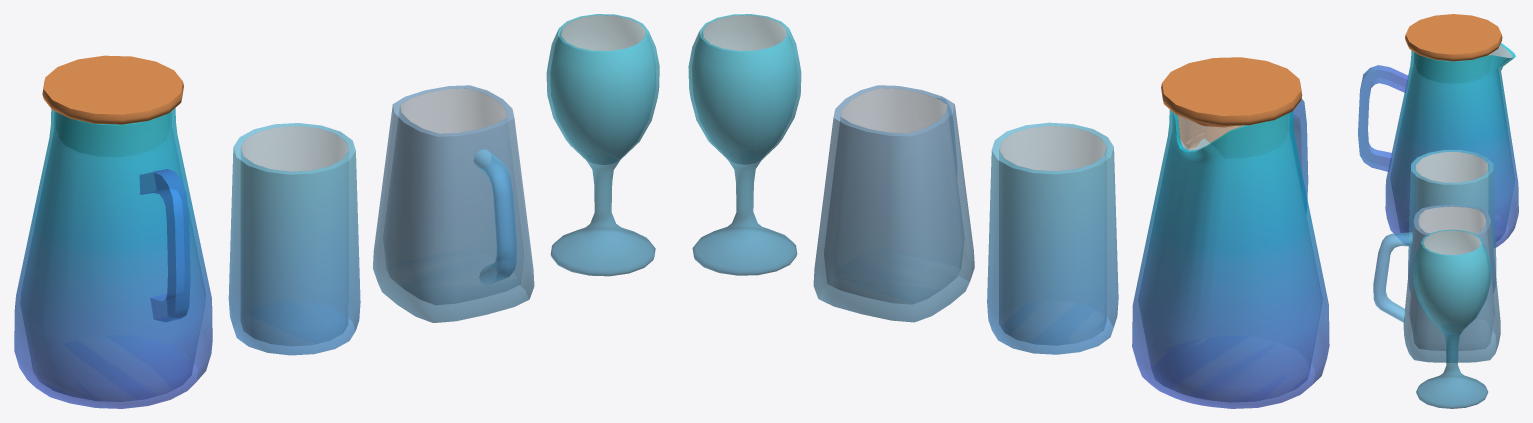
File: glasses.fbx
3 renders of one model, left to right at view 1: azimuth 30°, elevation 25°; view 2: azimuth 150°, elevation 25°; view 3: azimuth 270°, elevation 25°, orthographic. The views are drawn at different scales.
Parts seen in each view (by area): view 1: jug, glass_Beer, jug_Liquid, glass, glass_Liquid, glass_Goblet, glass_Beer_Liquid, glass_Goblet_Liquid, jug_Lid; view 2: jug, jug_Liquid, glass_Beer, glass, glass_Beer_Liquid, glass_Liquid, glass_Goblet, glass_Goblet_Liquid, jug_Lid; view 3: jug, jug_Liquid, glass_Beer, glass_Goblet, glass_Goblet_Liquid, glass, glass_Beer_Liquid, jug_Lid, glass_Liquid.
Boxes of the visible parts, x1,y1,x2,y2 form: jug: (14,108,212,408); glass_Beer: (373,85,534,322); jug_Liquid: (21,112,204,401); glass: (228,123,360,355); glass_Liquid: (240,126,348,345); glass_Goblet: (546,14,659,276); glass_Beer_Liquid: (384,88,522,288); glass_Goblet_Liquid: (551,15,655,164); jug_Lid: (42,55,183,124); jug: (1132,98,1329,408); jug_Liquid: (1139,113,1321,401); glass_Beer: (813,85,974,322); glass: (987,122,1118,354); glass_Beer_Liquid: (825,88,963,303); glass_Liquid: (999,126,1106,343); glass_Goblet: (688,14,801,275); glass_Goblet_Liquid: (693,15,796,163); jug_Lid: (1161,57,1302,149); jug: (1358,43,1518,247); jug_Liquid: (1391,44,1513,235); glass_Beer: (1373,204,1500,362); glass_Goblet: (1413,229,1491,408); glass_Goblet_Liquid: (1416,230,1487,330); glass: (1408,150,1496,292); glass_Beer_Liquid: (1410,206,1494,350); jug_Lid: (1405,14,1502,61); glass_Liquid: (1416,152,1488,212).
Bounding box in the file's own units: 2.76 × 0.9017 × 1.22.
